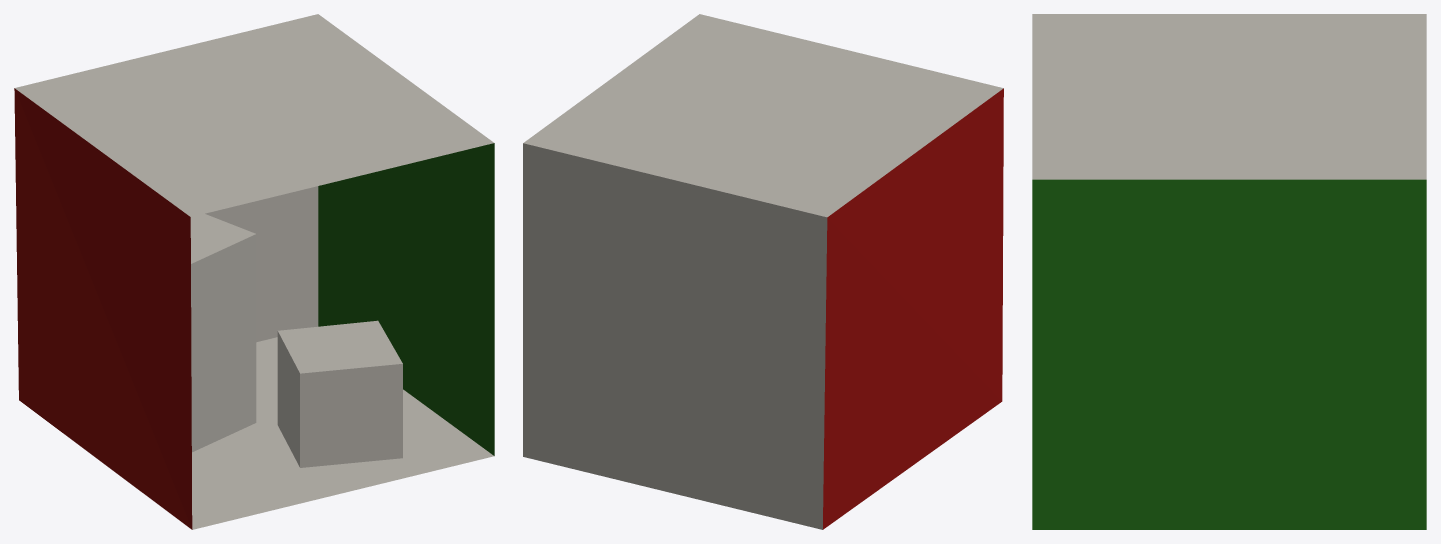
File: cornell.obj
3 renders of one model, left to right at view 1: azimuth 30°, elevation 25°; view 2: azimuth 150°, elevation 25°; view 3: azimuth 270°, elevation 25°, orthographic. The views are drawn at different scales.
Visible parts, largest first — view 1: leftWall, ceiling, rightWall, floor, shortBox, backWall; view 2: backWall, leftWall, ceiling; view 3: rightWall, ceiling.
Part boxes in pixels (left/top/right/bottom): leftWall: left=14, top=88, right=402, bottom=529; ceiling: left=15, top=14, right=493, bottom=216; rightWall: left=318, top=143, right=494, bottom=455; floor: left=192, top=337, right=493, bottom=529; shortBox: left=190, top=213, right=256, bottom=452; backWall: left=205, top=186, right=318, bottom=342; backWall: left=523, top=143, right=827, bottom=529; leftWall: left=823, top=88, right=1003, bottom=529; ceiling: left=523, top=14, right=1003, bottom=217; rightWall: left=1032, top=179, right=1426, bottom=529; ceiling: left=1032, top=14, right=1426, bottom=179.
Bounding box in the file's own units: 2.02 × 1.99 × 2.03.
